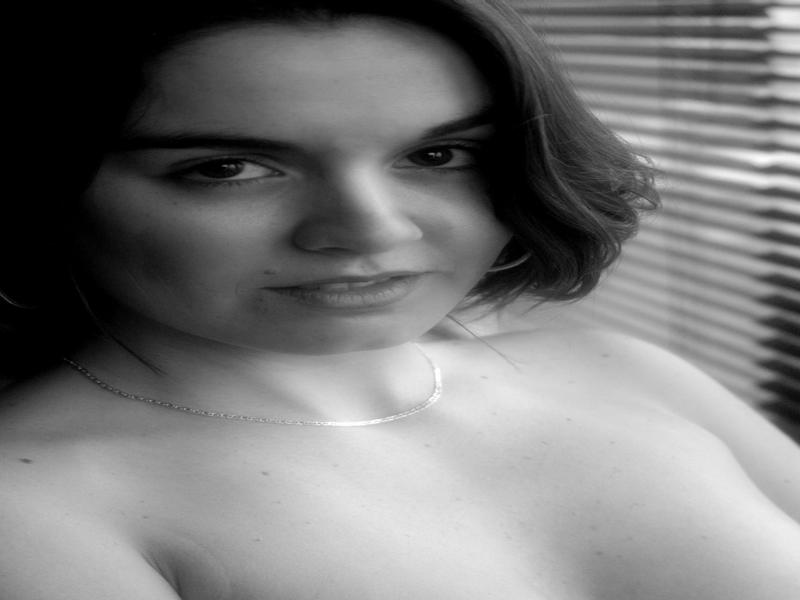person: (9, 14, 800, 596)
